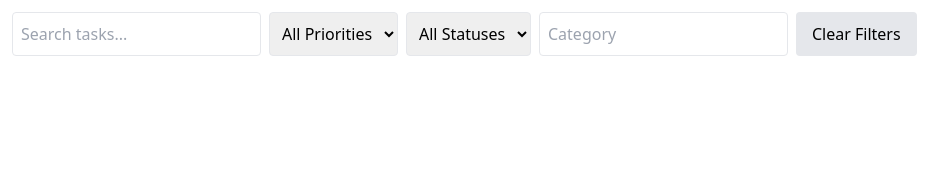
Test: SearchFilter › shows active filter chips
Type "report" into the search field with placeholder "Search tasks...".
click(136, 34); type("report")  # box x1=12 y1=12 x2=261 y2=56
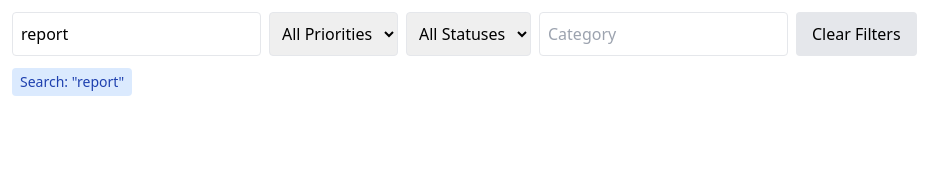
Expected: the text "Search: \"report\"" is shown, x1=12 y1=68 x2=132 y2=96
